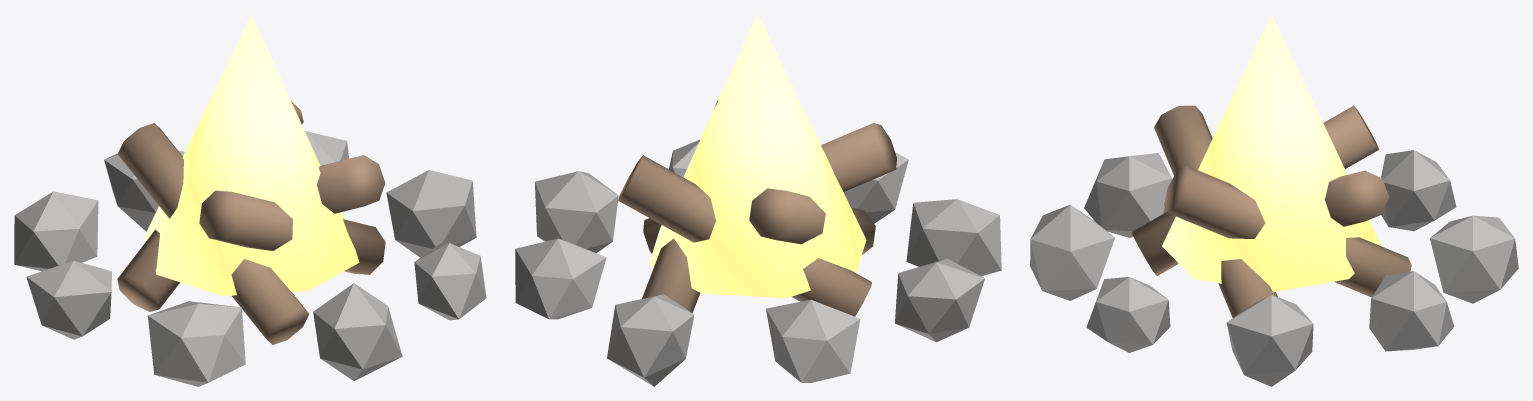
File: campfire.glb
The picture shows the model from 3 angles, left to right: view 1: azimuth 30°, elevation 25°; view 2: azimuth 150°, elevation 25°; view 3: azimuth 270°, elevation 25°; orthographic projection. The views are drawn at different scales.
Parts seen in each view (by area): view 1: campfire; view 2: campfire; view 3: campfire.
Part boxes in pixels (left/top/right/bottom): campfire: left=14, top=14, right=486, bottom=386; campfire: left=515, top=14, right=1001, bottom=386; campfire: left=1030, top=14, right=1518, bottom=386.
Bounding box in the file's own units: 1.34 × 0.8737 × 1.34.
